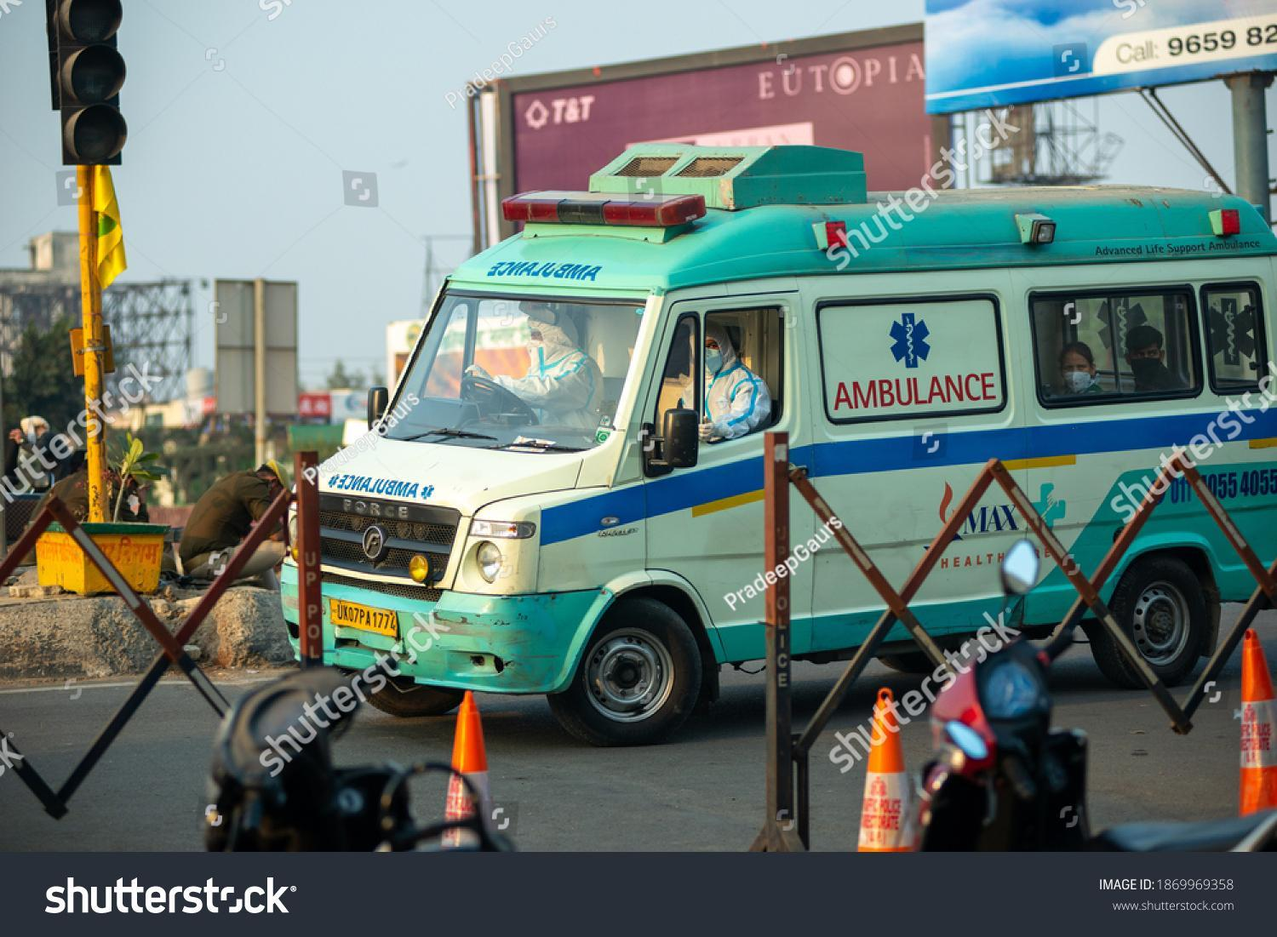Ambulance: (820, 364, 1009, 418), (878, 306, 942, 373)
